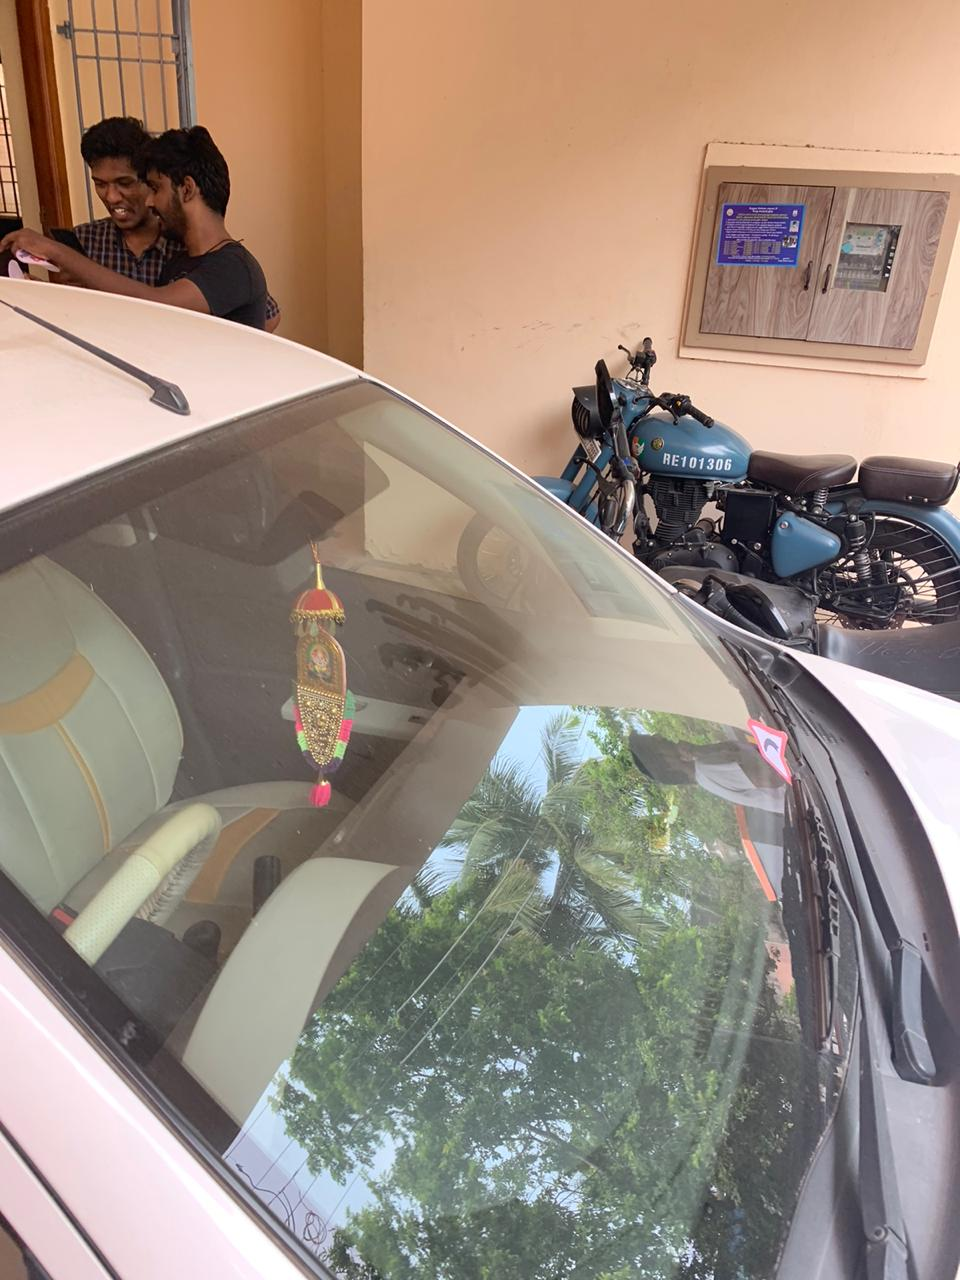LEFT CURVE: (744, 715, 815, 790)
